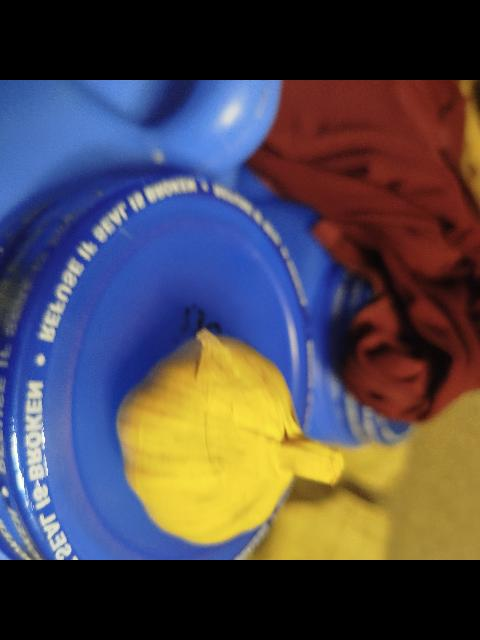garlic: (116, 327, 344, 546)
